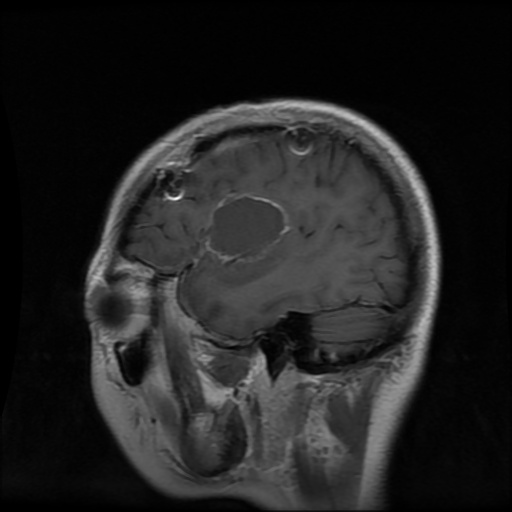glioma: (200, 193, 288, 263)
